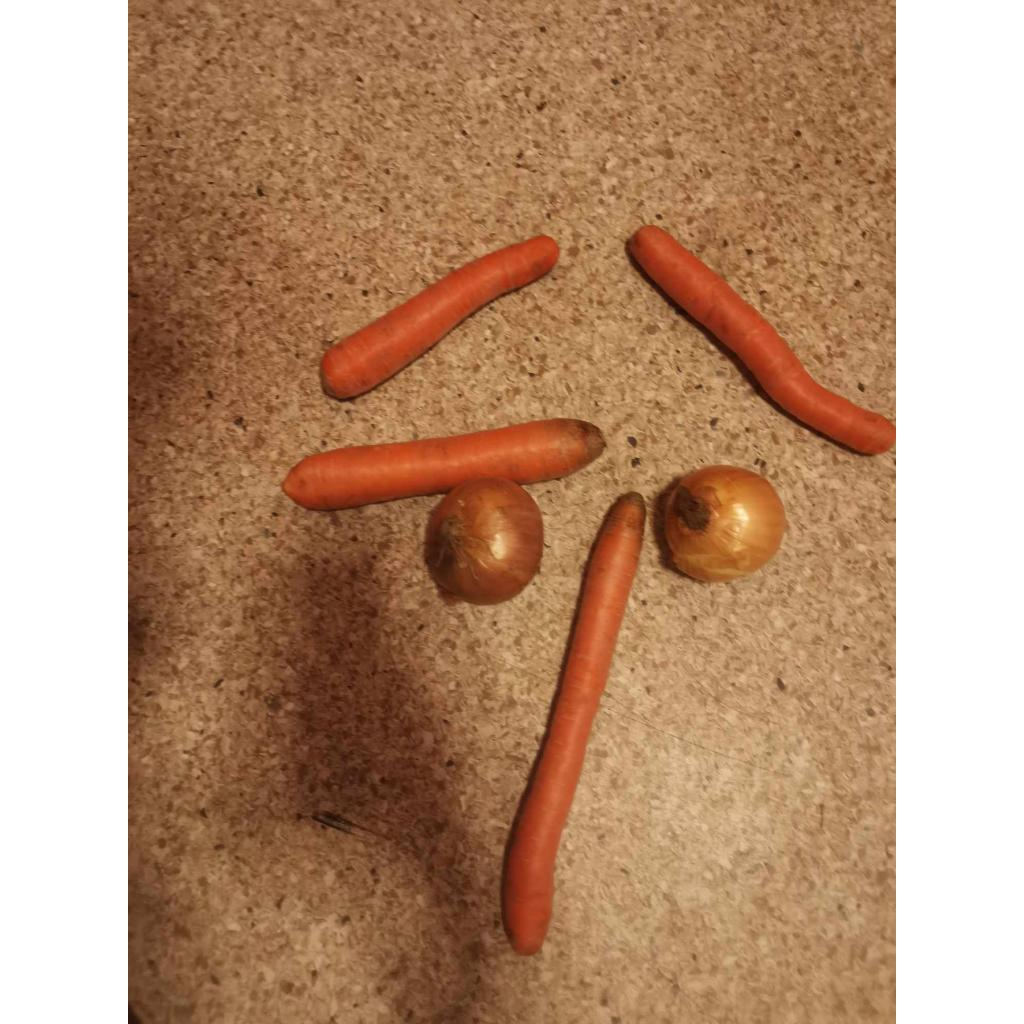carrot: (502, 492, 646, 954), (628, 226, 896, 454), (322, 236, 560, 398), (282, 418, 606, 510)
